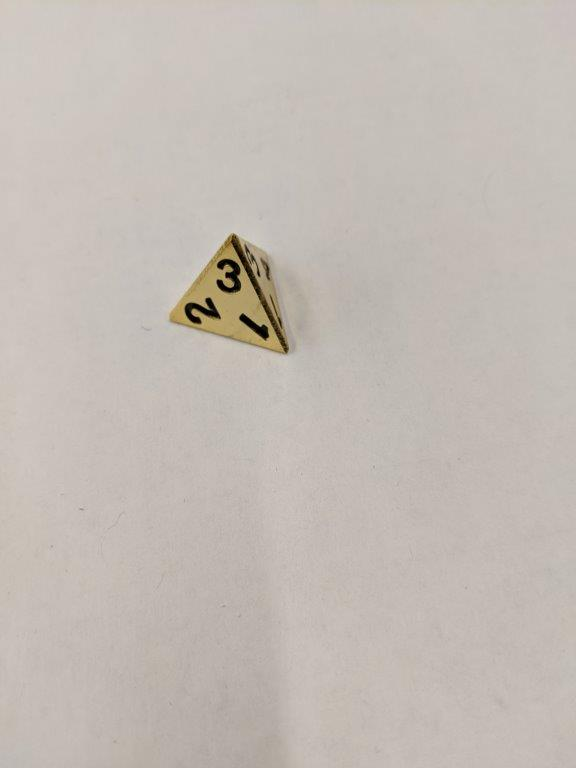d4-3: (162, 226, 293, 359)
